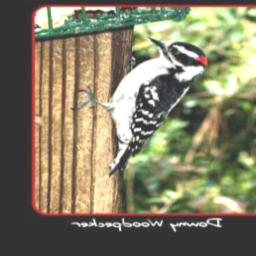Woodpecker: (67, 36, 209, 174)
